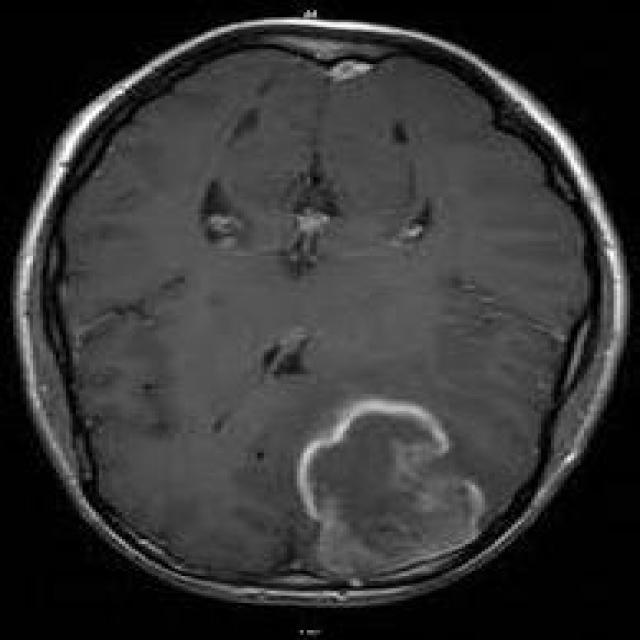brain tumor: (304, 404, 478, 578)
